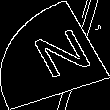N_SE: (18, 24, 92, 86)
